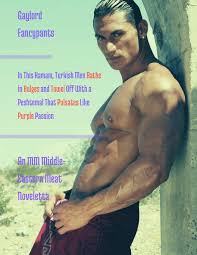middle_eastern_male: (94, 3, 149, 71)
